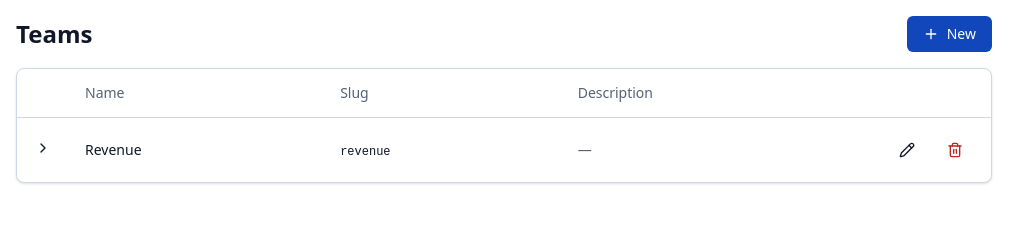
Org pages › surfaces 409 REFERENCED on delete
Click the 4th button at (955, 150), box [935, 134, 975, 166]
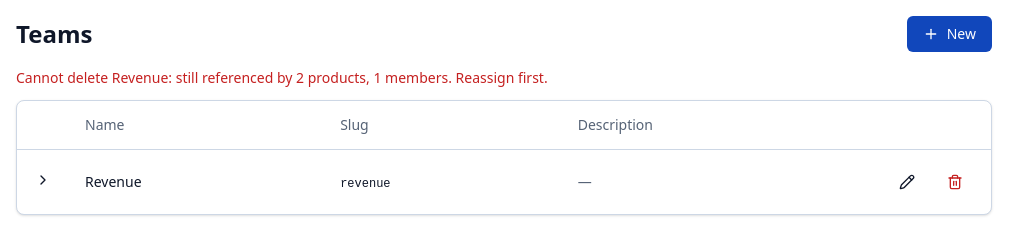
Expected: the text "Cannot delete Revenue" is shown, [16, 68, 548, 87]
